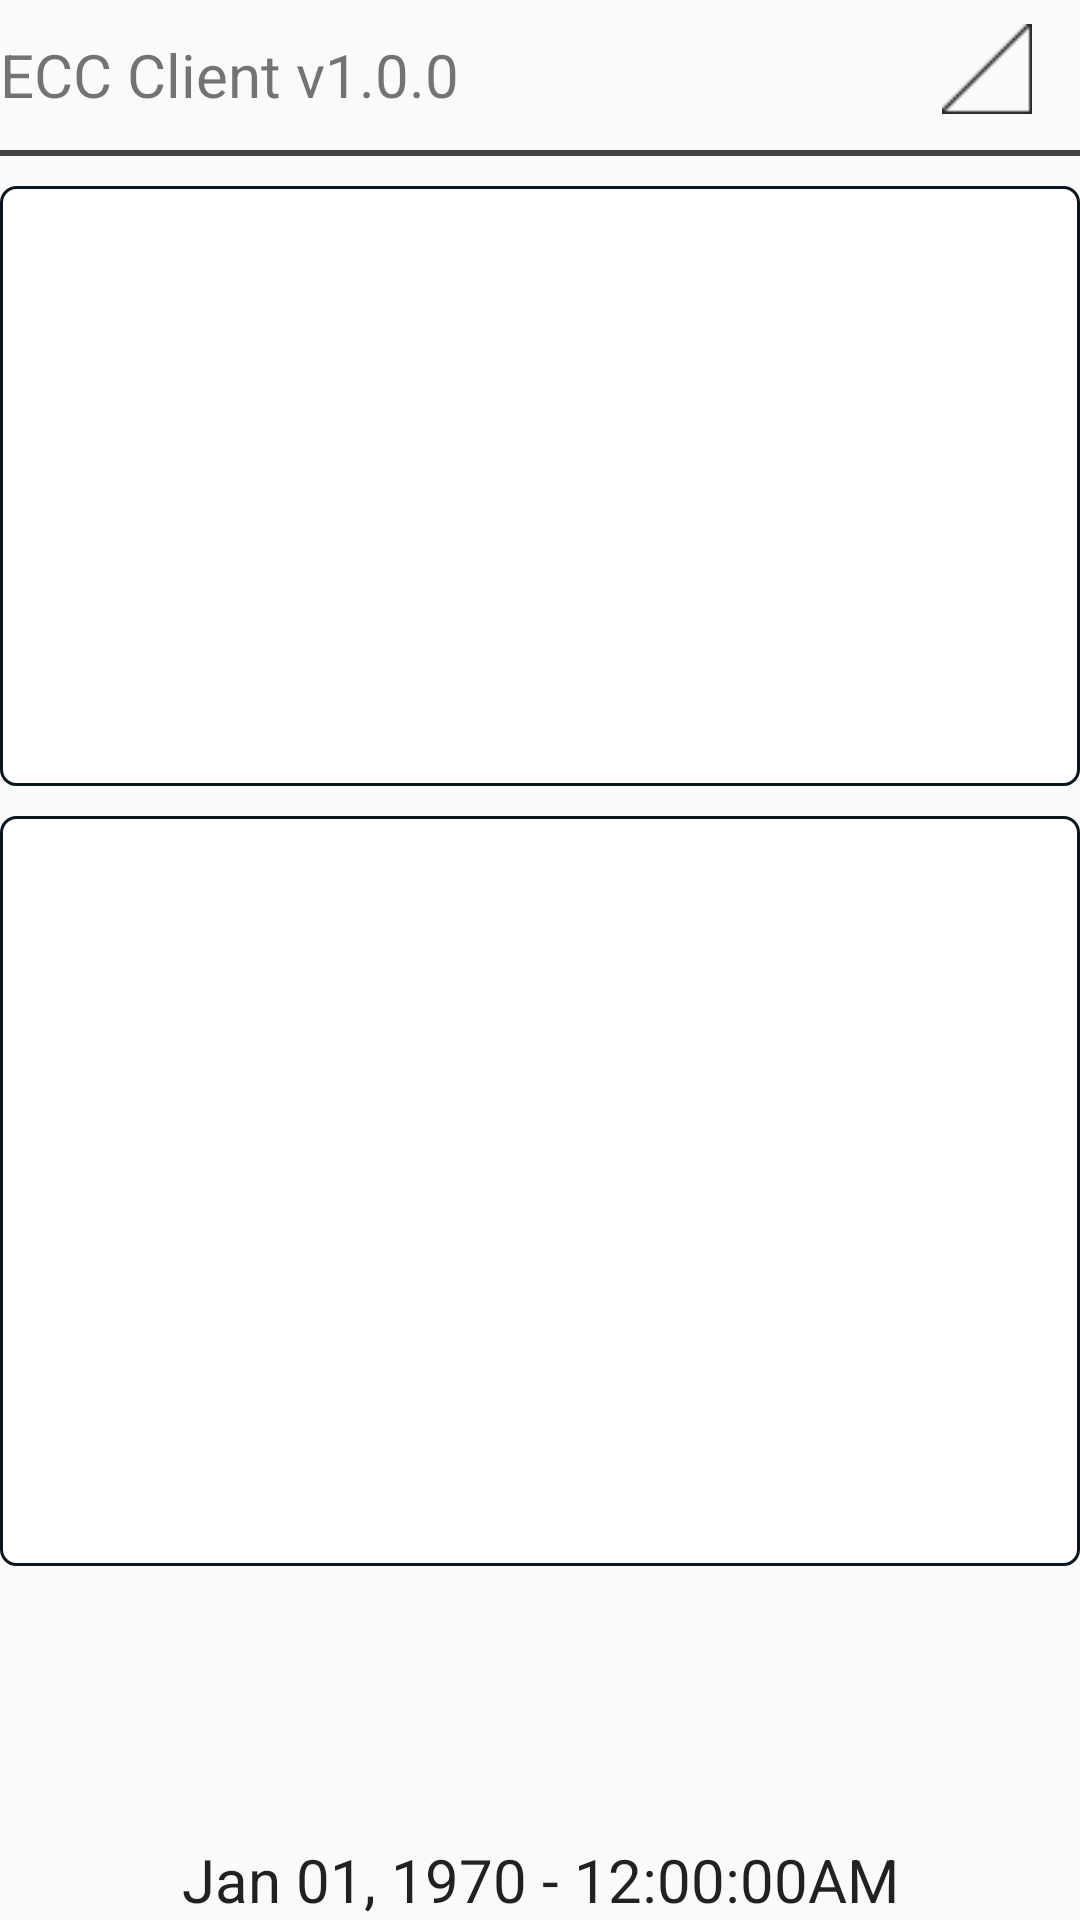

Screen size 1080px×1920px. Icon name, then its box in pixels as (x1, y1, x2, y2):
signal info state: (942, 24, 1032, 114)
